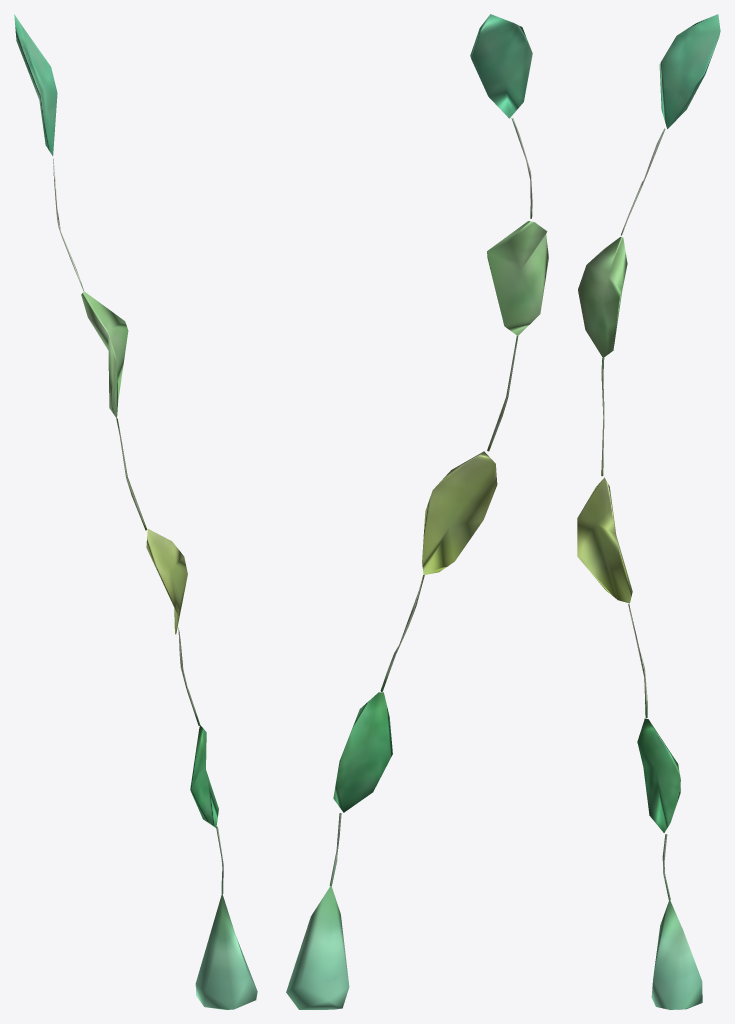
The model's file is kelp_c.glb.
The picture shows the model from 3 angles, left to right: view 1: azimuth 30°, elevation 25°; view 2: azimuth 150°, elevation 25°; view 3: azimuth 270°, elevation 25°; orthographic projection. The views are drawn at different scales.
Visible parts, largest first — view 1: kelp_c; view 2: kelp_c; view 3: kelp_c.
Boxes of the visible parts, x1,y1,x2,y2 form: kelp_c: (14,14,257,1009); kelp_c: (286,14,548,1009); kelp_c: (577,14,720,1009).
Size of the model in its own units: 0.1319 by 0.569 by 0.081.
1 material, 1 textured.
